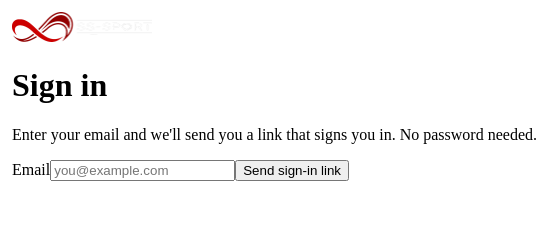
Scenario: SignInPanel (W-1, P-5 web): asking for a link › refuses a malformed email without calling the server
Type "not-an-email" into the field labelled "Email" at point(143, 170), box [50,160,235,181]
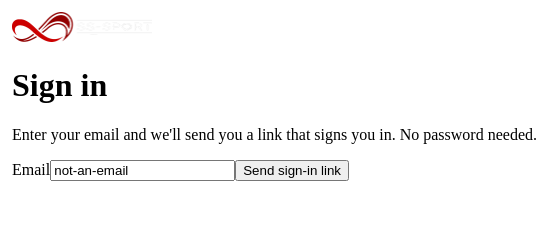
Click the button "Send sign-in link" at point(292, 170), box [235,160,349,181]
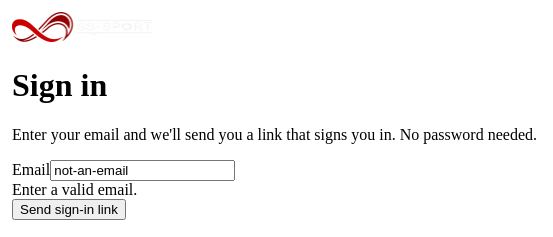
Expected: the text "Enter a valid email." is shown, [12,181,137,198]
